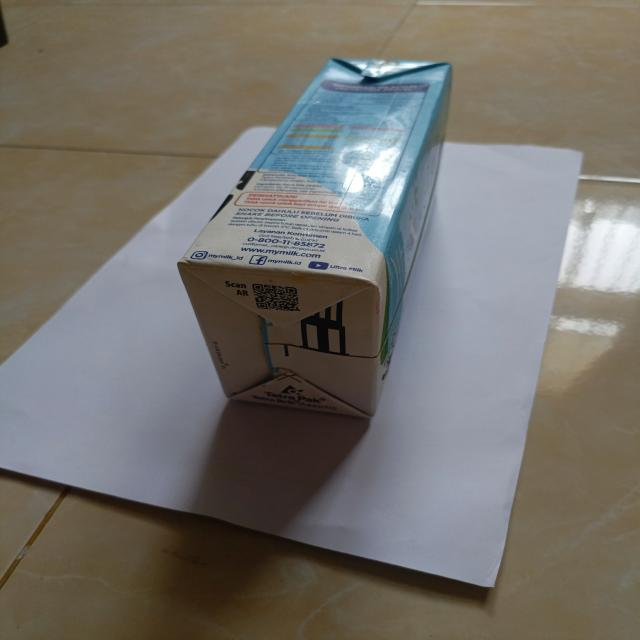indomie-mie-kocok-bandung: (178, 54, 452, 424)
